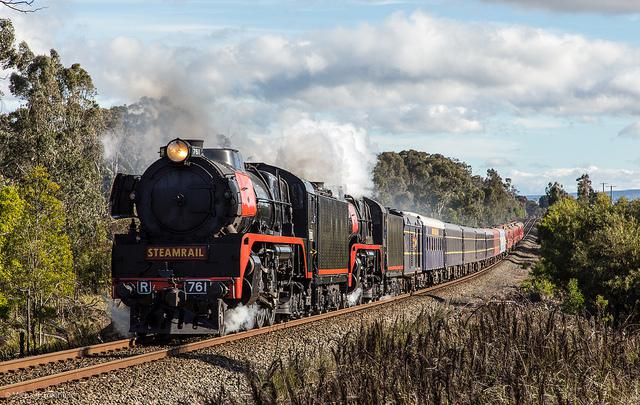Train: (109, 133, 527, 338)
